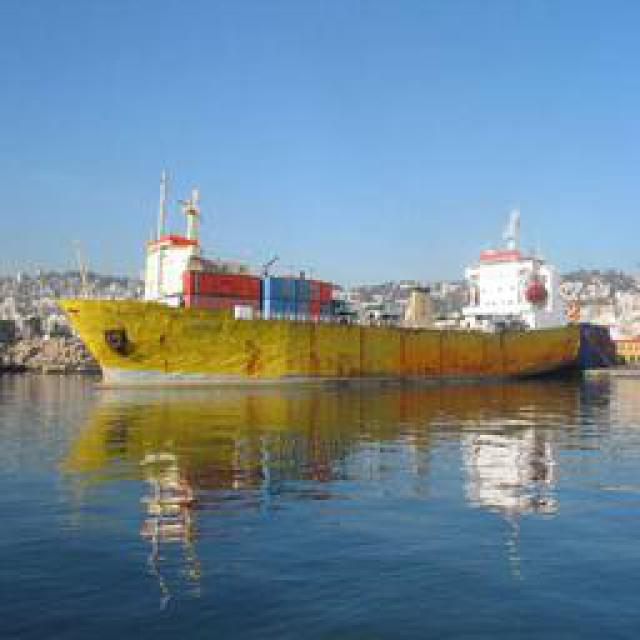Ship: (66, 314, 631, 384)
